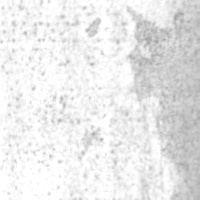pitted_surface: (0, 1, 129, 200), (126, 0, 200, 200)
